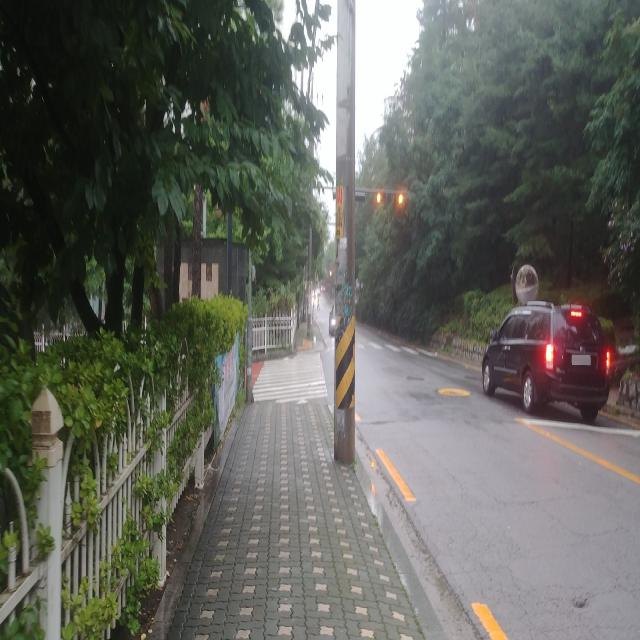횡단보도: (252, 351, 328, 404)
